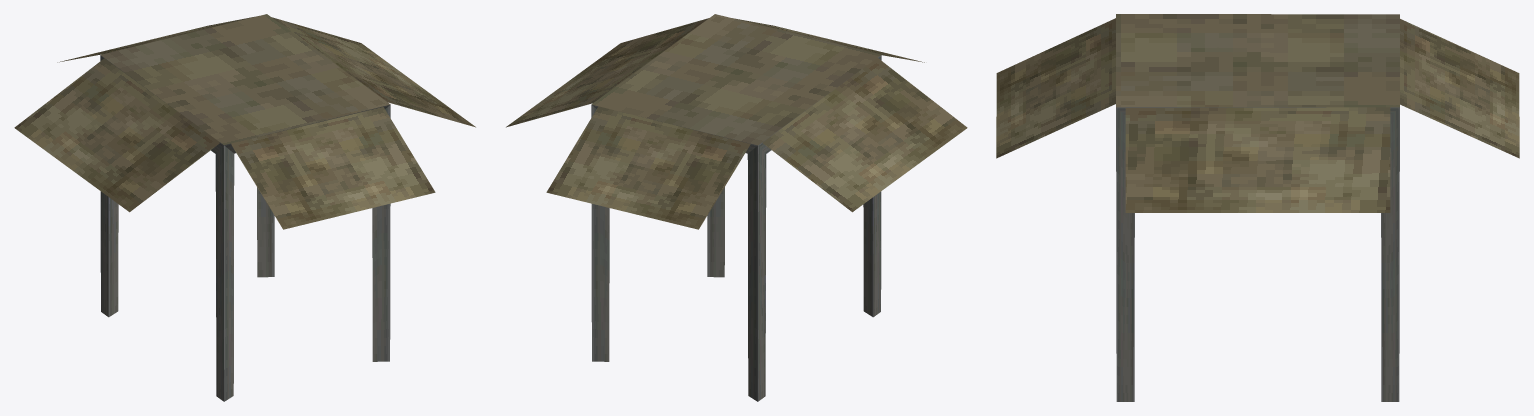
Rendered from eqp_camping_pavilion_s1_l3.fbx.
3 renders of one model, left to right at view 1: azimuth 30°, elevation 25°; view 2: azimuth 150°, elevation 25°; view 3: azimuth 270°, elevation 25°, orthographic. The views are drawn at different scales.
Visible parts, largest first — view 1: mesh_node; view 2: mesh_node; view 3: mesh_node.
Part boxes in pixels (box(x1,y1,x2,y2)): mesh_node: box(14, 14, 475, 401); mesh_node: box(506, 14, 967, 401); mesh_node: box(996, 14, 1519, 401).
Size of the model in its own units: 14.58 by 10.31 by 16.58.
Materials: 1 (1 with a texture image).
